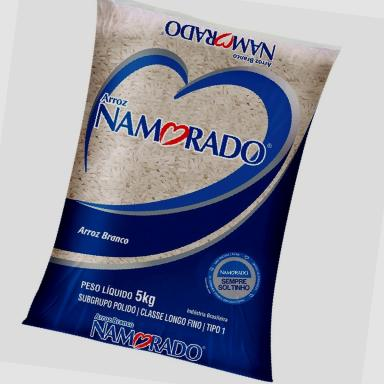rice package: (24, 0, 338, 381)
